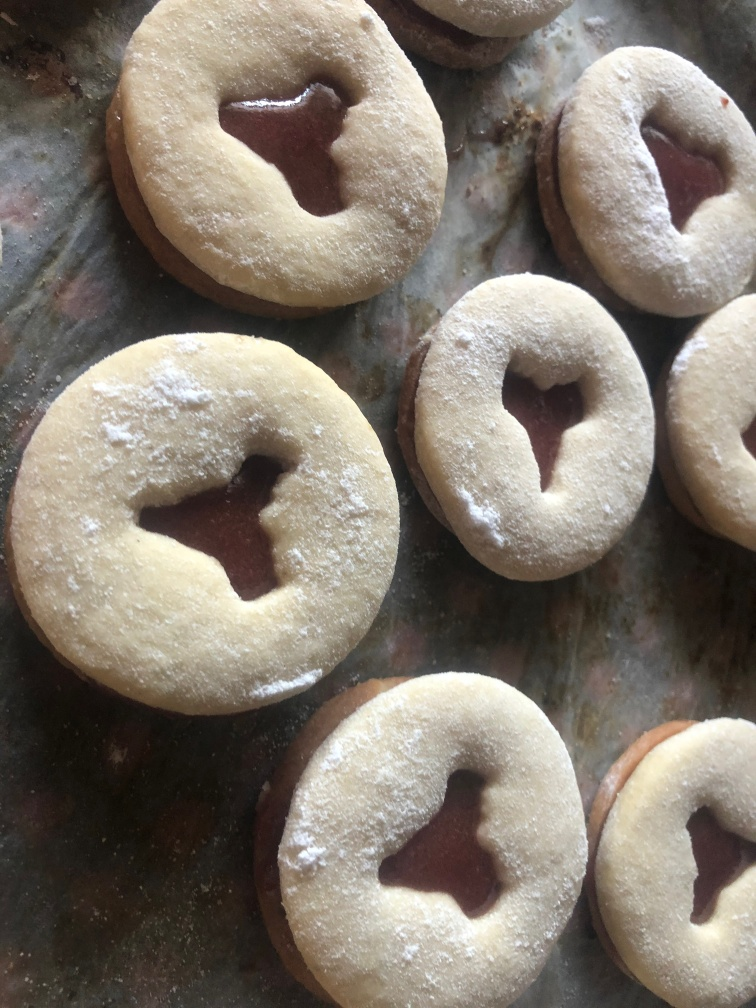christmas shortbread with jam: (9, 322, 399, 712), (268, 662, 588, 1008), (104, 1, 449, 307), (405, 268, 656, 595), (533, 39, 755, 314), (590, 706, 756, 1007), (660, 284, 756, 544)
